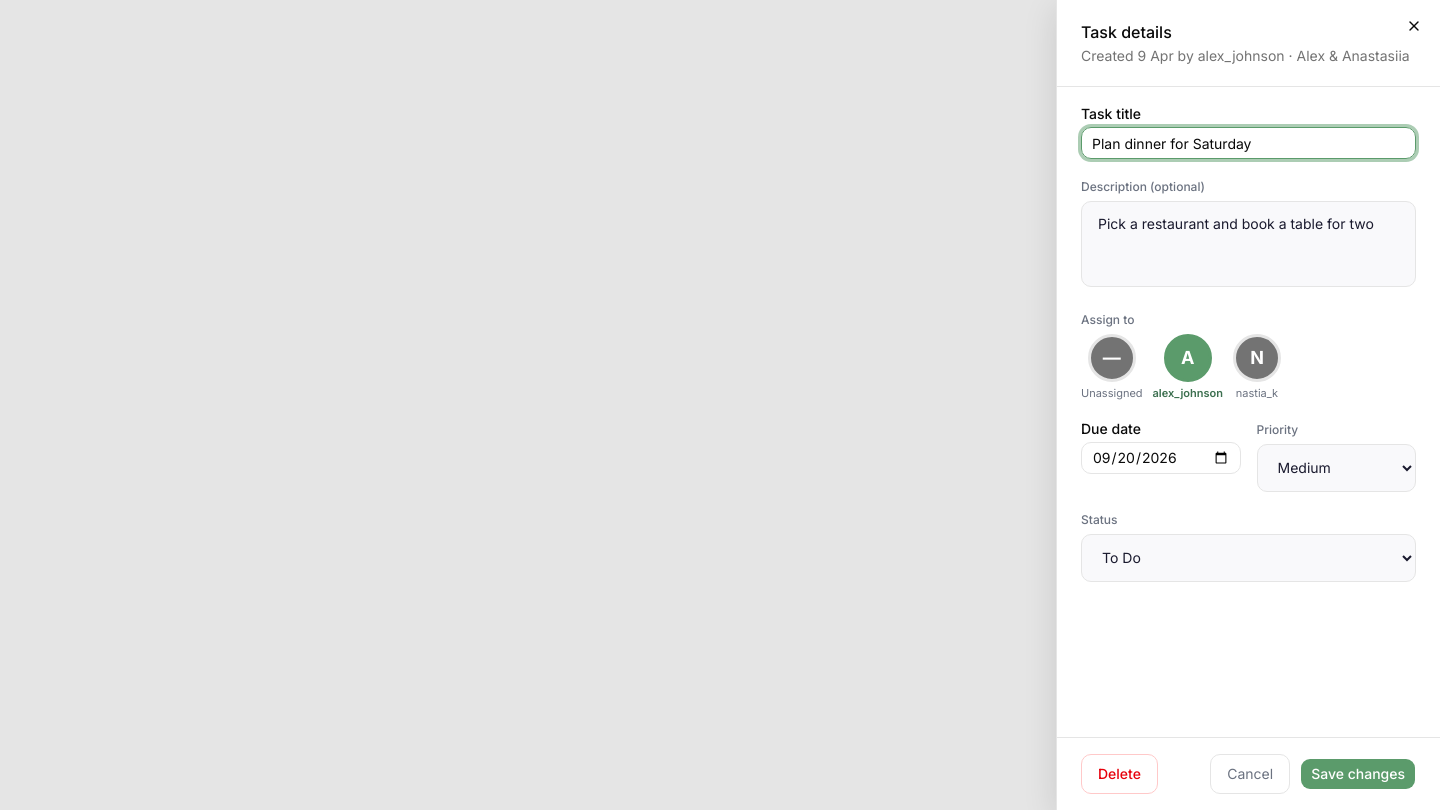
TaskDrawer — edit mode › surfaces a generic error on a 500 save response
Replace the text in the field showing "Plan dinner for Saturday" with "Bad title". click: coordinates (1248, 143)
box: [1081,127,1416,159]
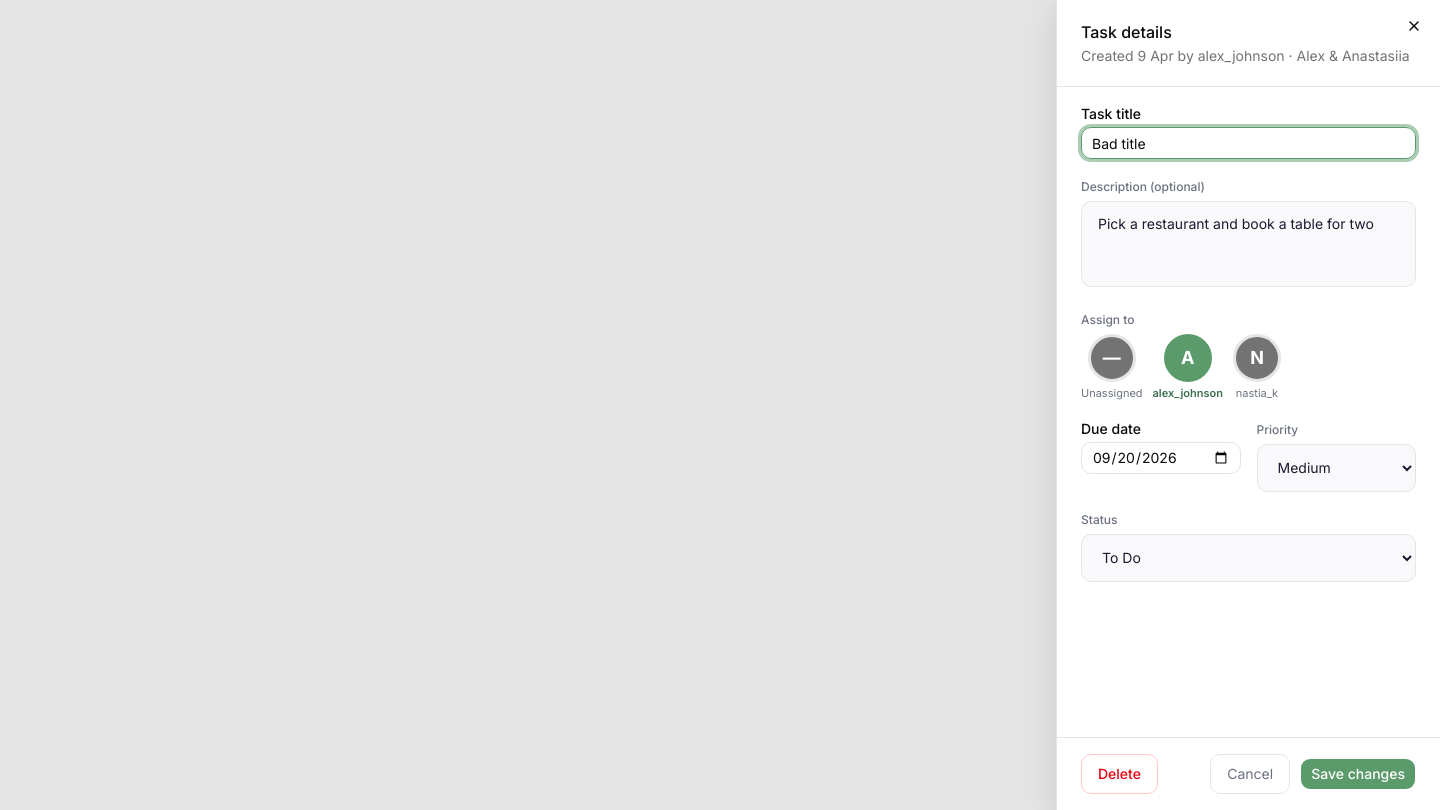
Click the button "Save changes". click: coordinates (1358, 774)
box: [1300,758,1416,790]
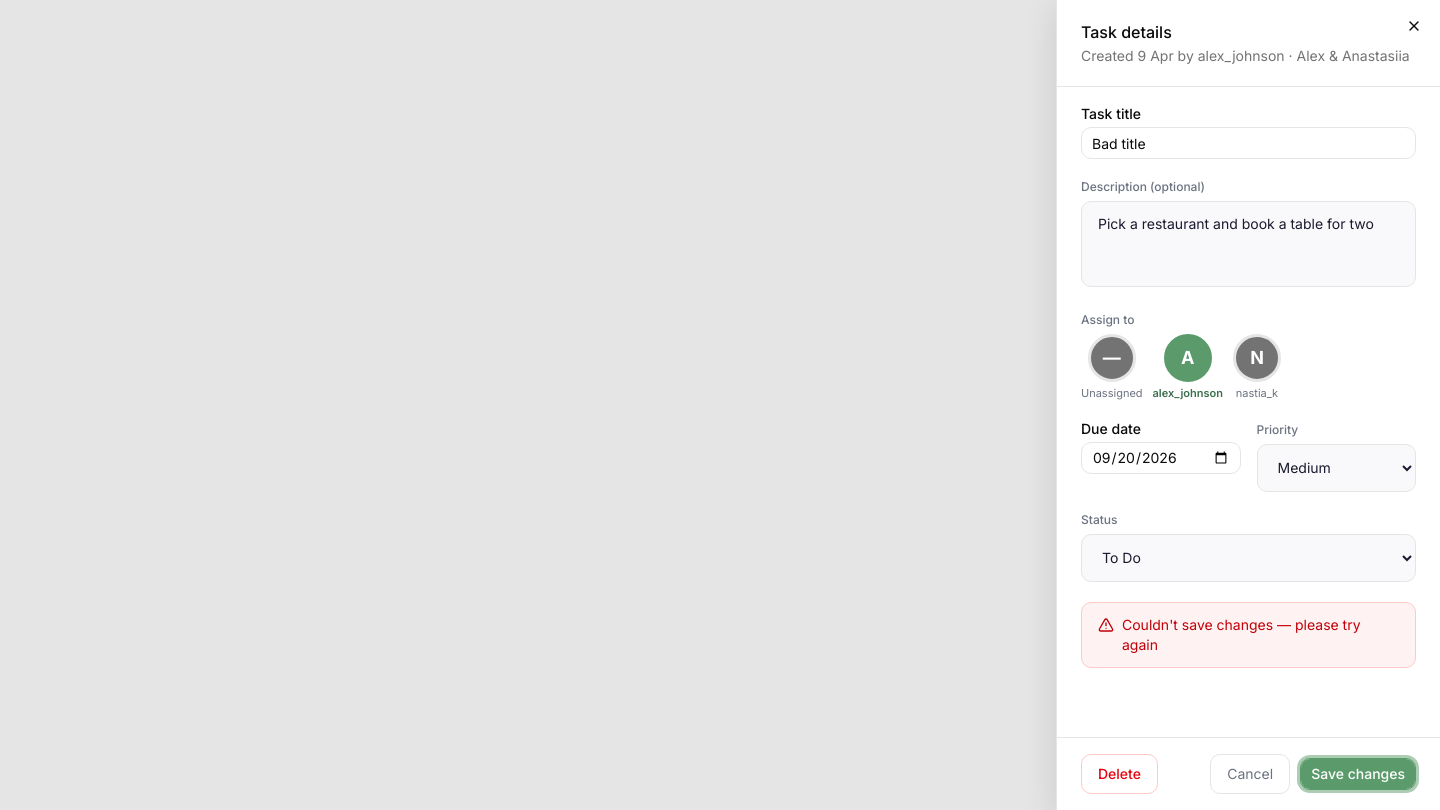
Expected: the message reads "Couldn't save changes — please try again", [1122,616,1361,653]
